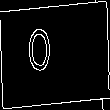O_S: (43, 27, 67, 83)
